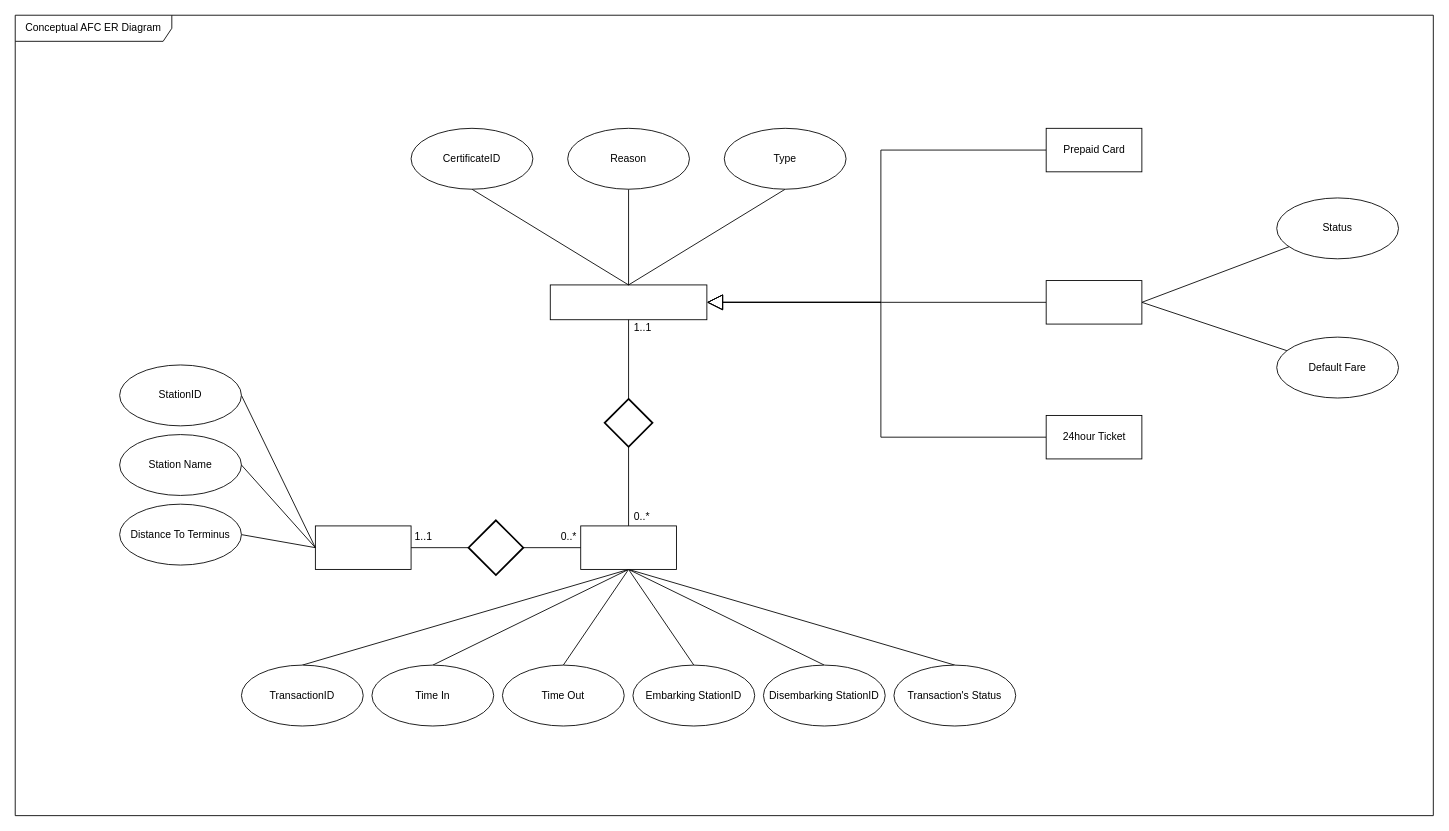
The diagram is 1449 pixels wide and 831 high, and some of its shapes have lost their labels. The centre of each missing label's shape, as x and y in pixels:
"Has" goes at point 628,422.
"Include" goes at point 495,547.
"Oneway Ticket" goes at point 1093,302.
"Station System" goes at point 363,547.
"Transaction History" goes at point 628,547.
"Travel Certificate Information" goes at point 628,302.
